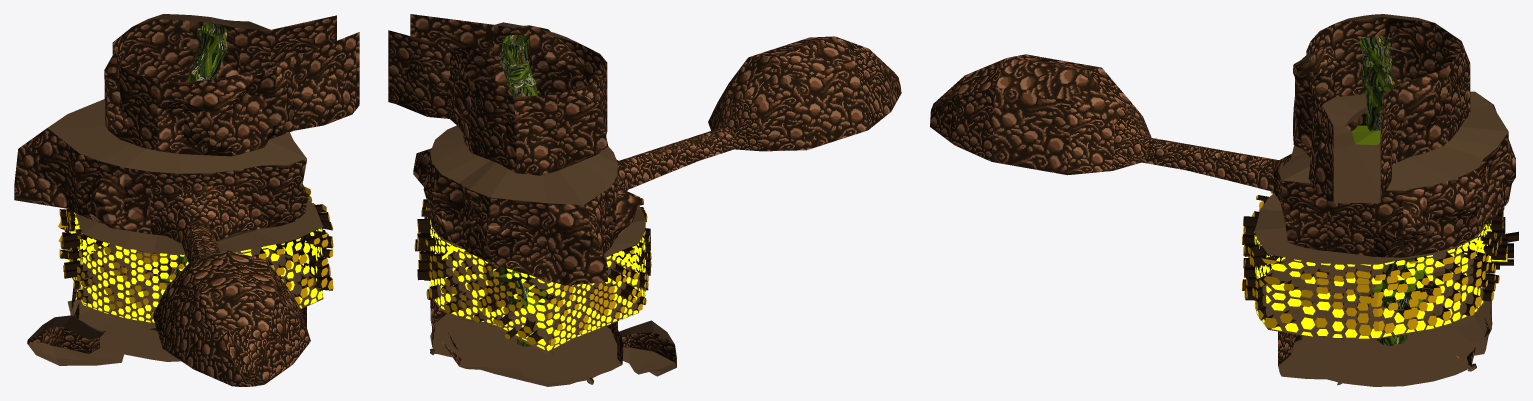
The model's file is Colmena.fbx.
3 views of the same model, side by side, from view 1: azimuth 30°, elevation 25°; view 2: azimuth 150°, elevation 25°; view 3: azimuth 270°, elevation 25° (orthographic). The views are drawn at different scales.
Visible parts, largest first — view 1: Colemna; view 2: Colemna; view 3: Colemna.
Part boxes in pixels (x1=…): Colemna: x1=14, y1=14, x2=359, y2=386; Colemna: x1=388, y1=14, x2=901, y2=386; Colemna: x1=930, y1=14, x2=1518, y2=386.
Size of the model in its own units: 52846 by 77716 by 45494.
Materials: 5 (2 with a texture image).
